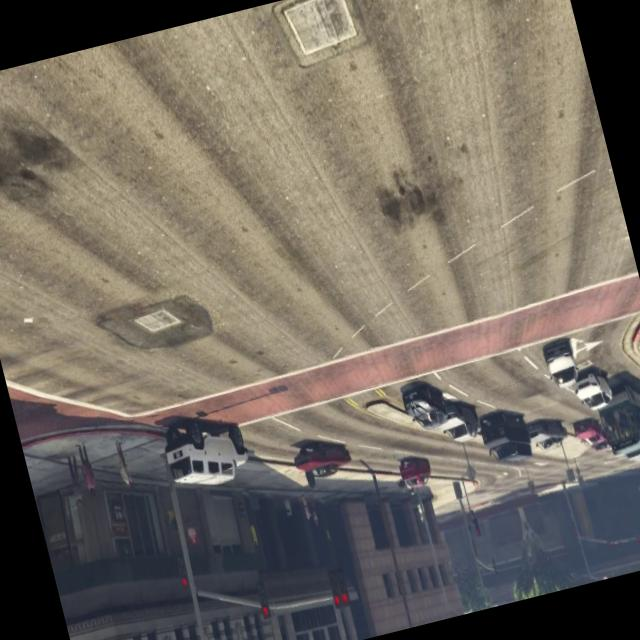Red-Signal: (316, 554, 358, 618), (250, 573, 276, 627), (168, 545, 194, 596)
